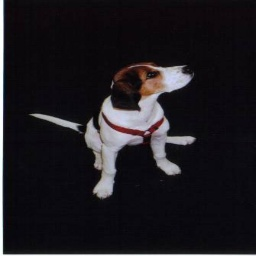dog: (62, 56, 202, 197)
